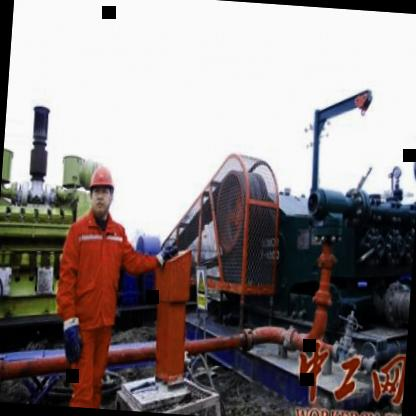helmet: (83, 158, 120, 222)
